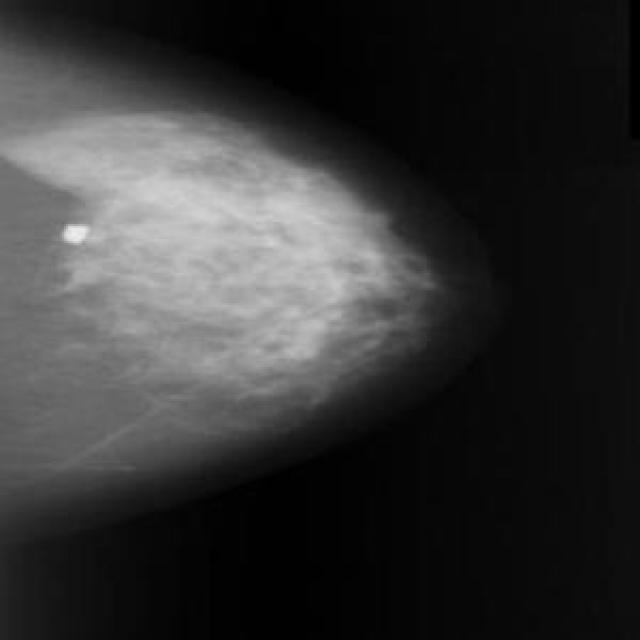tumor: (54, 204, 388, 356)
